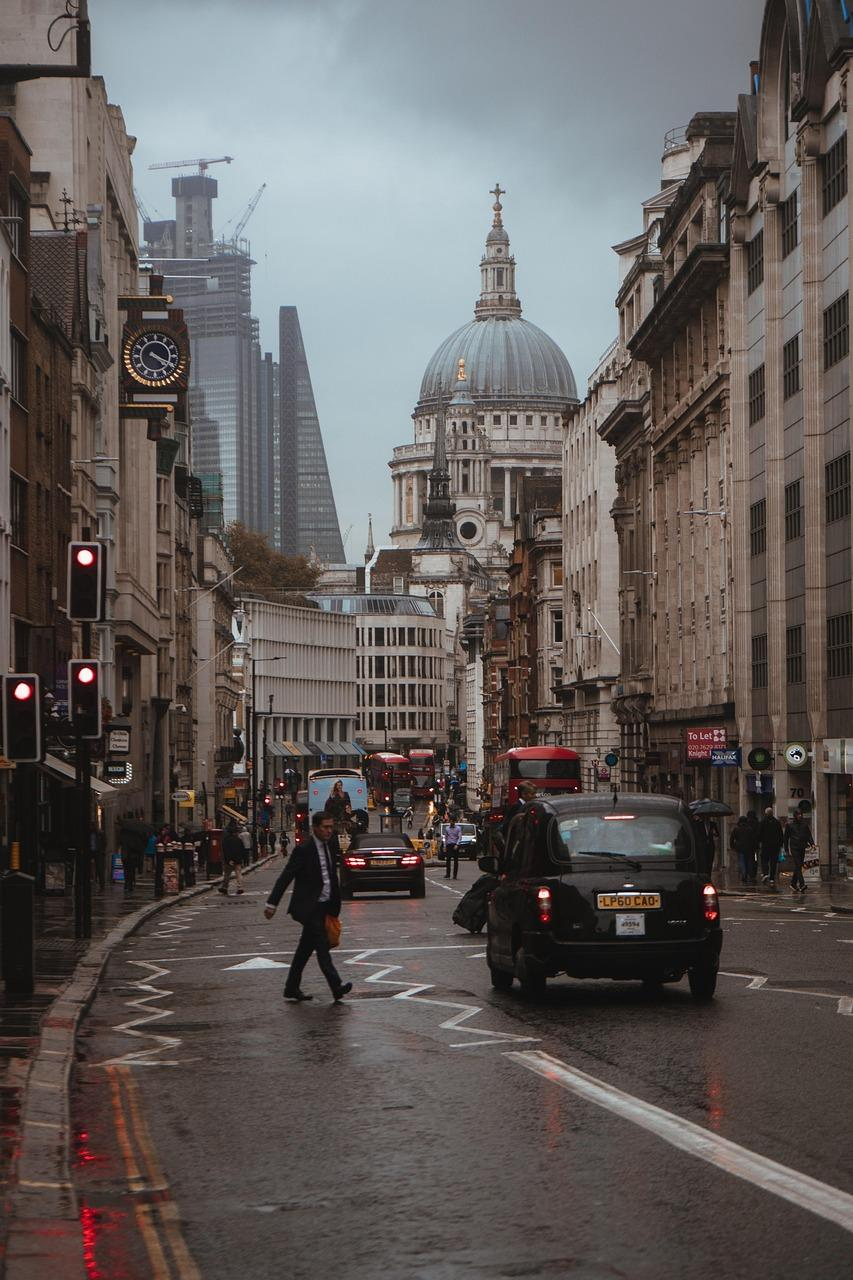car: (483, 795, 722, 1005), (344, 836, 427, 900), (458, 824, 480, 857)
pedestrian: (264, 810, 353, 1005), (788, 802, 810, 895), (759, 804, 781, 888), (737, 808, 760, 887), (224, 823, 245, 894), (445, 818, 462, 881)
